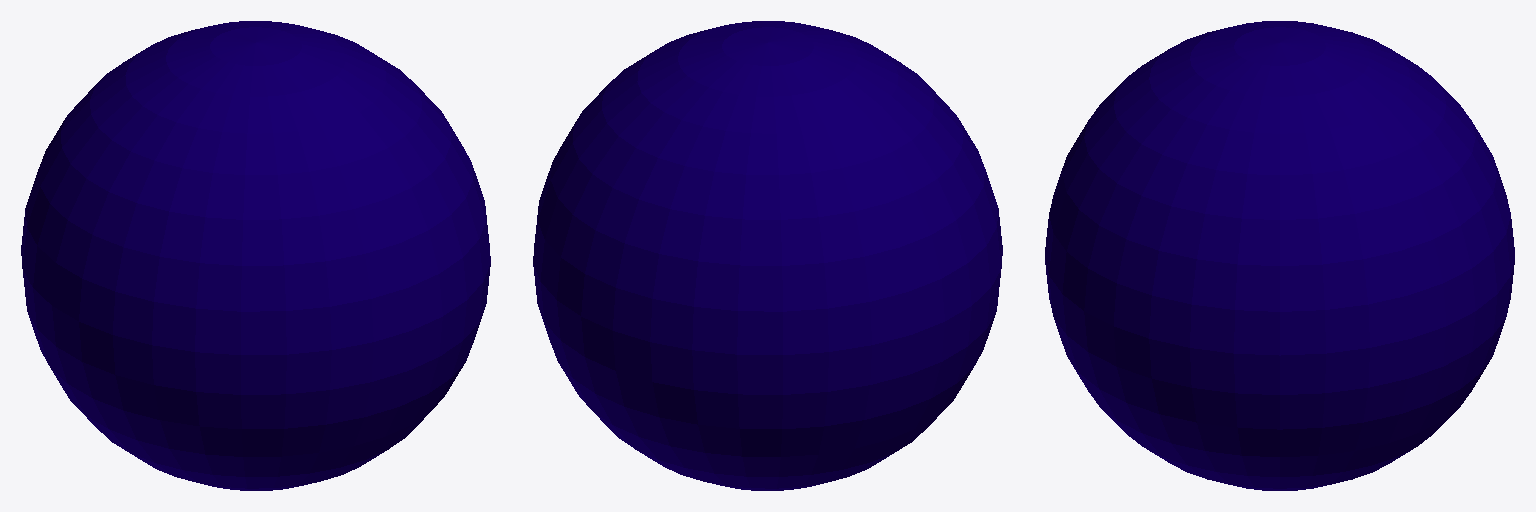
Rendered from texturedSphere.obj.
The picture shows the model from 3 angles: view 1: azimuth 30°, elevation 25°; view 2: azimuth 150°, elevation 25°; view 3: azimuth 270°, elevation 25°; orthographic projection.
Visible parts, largest first — view 1: Sphere; view 2: Sphere; view 3: Sphere.
Boxes of the visible parts, x1=… form: Sphere: x1=21, y1=21, x2=490, y2=490; Sphere: x1=533, y1=21, x2=1002, y2=490; Sphere: x1=1045, y1=21, x2=1514, y2=490.
Bounding box in the file's own units: 2 × 2 × 2.